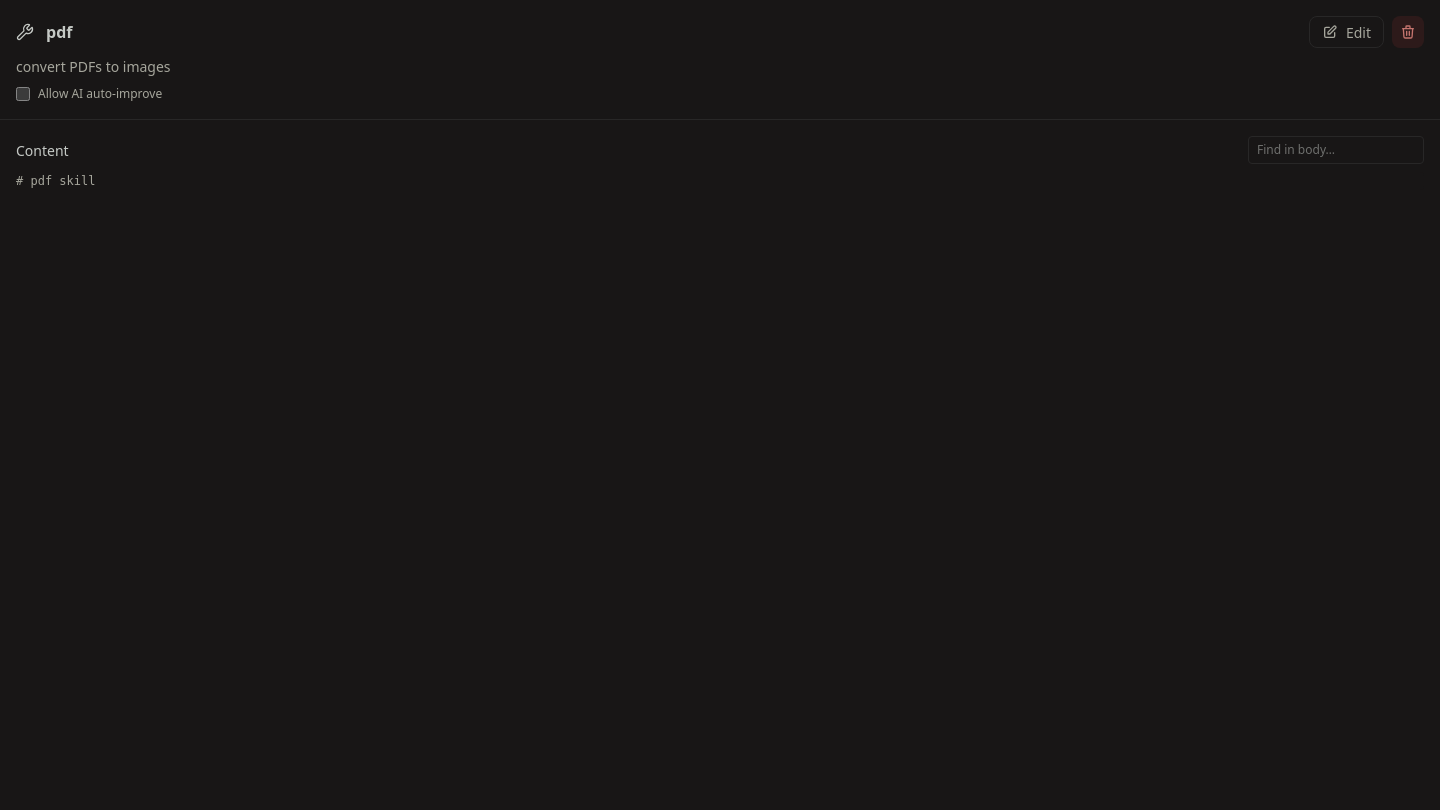
SkillDetail — editing › renders the STORED row after a save, not what was typed
Step 1. Click the button with test id "skill-edit-btn" → (1346, 32), box [1309,16,1384,48]
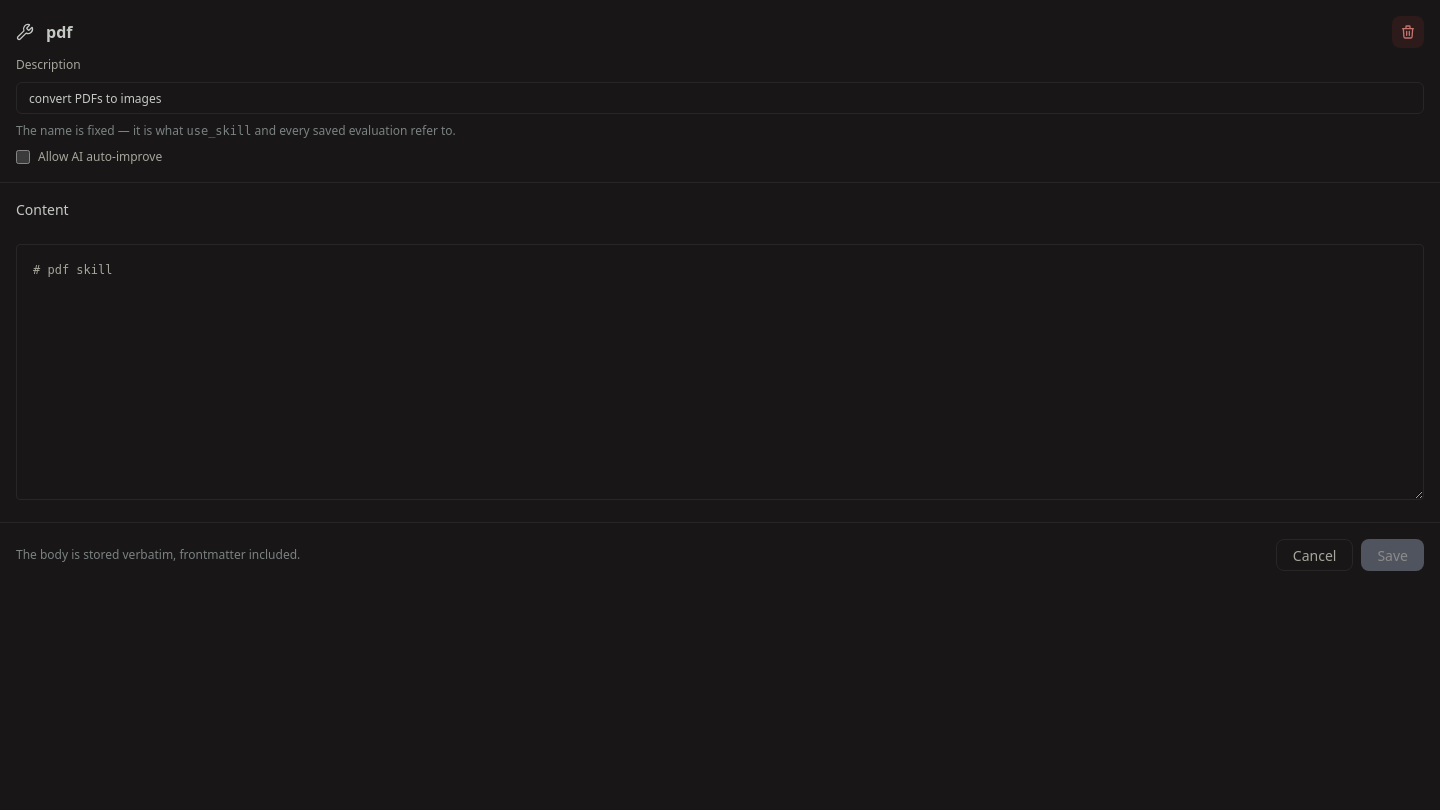
Step 2. Replace the text in the field with test id "skill-edit-description" with "  padded  " → (720, 98), box [16,82,1424,114]
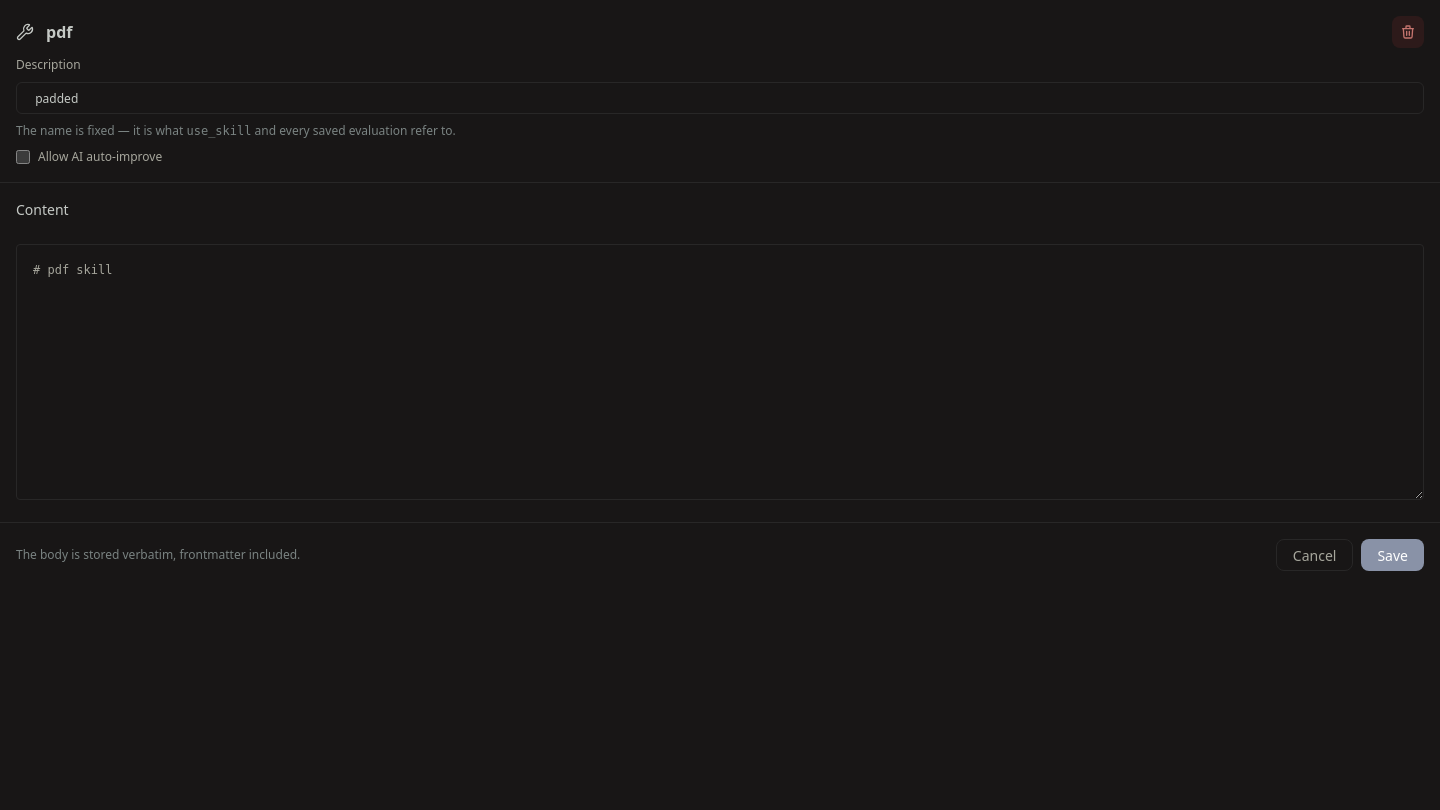
Step 3. Click the button with test id "skill-edit-save" → (1393, 555), box [1361,539,1424,571]
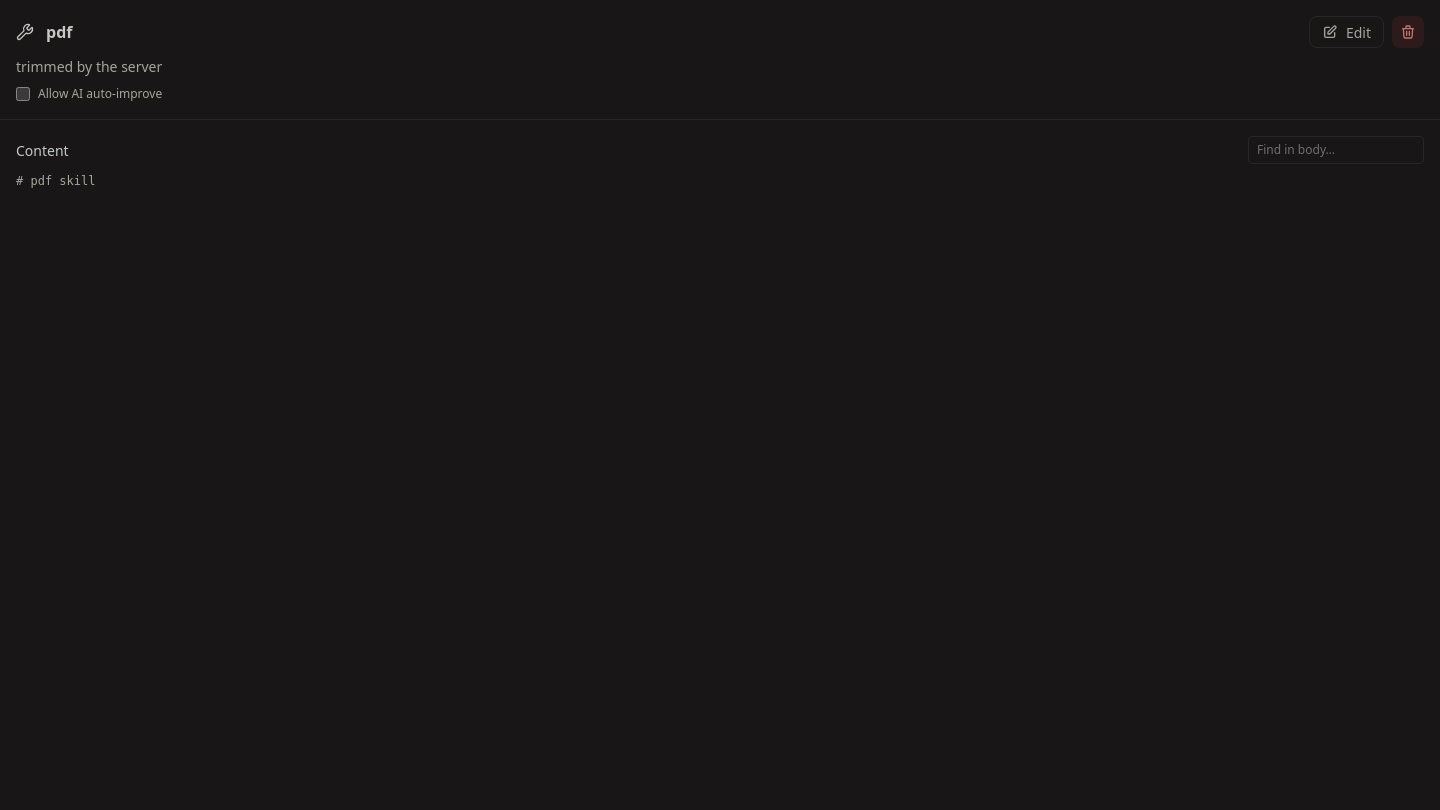
Expected: the text "padded" is not shown
Expected: the text "trimmed by the server" is shown, [16,57,162,76]
